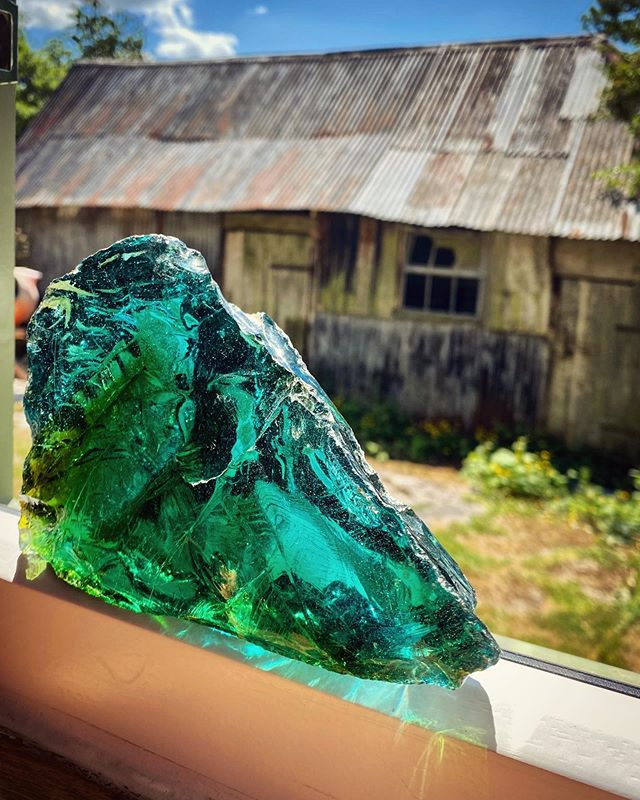building: (29, 63, 639, 459)
rocks: (15, 244, 494, 702)
